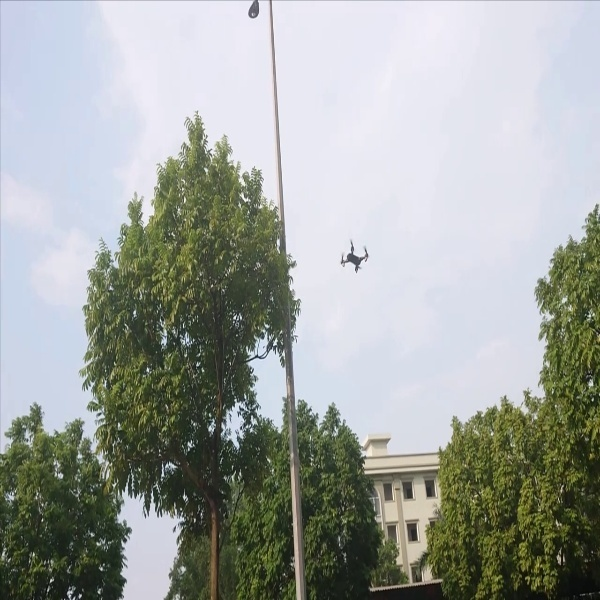drone: (331, 231, 374, 277)
